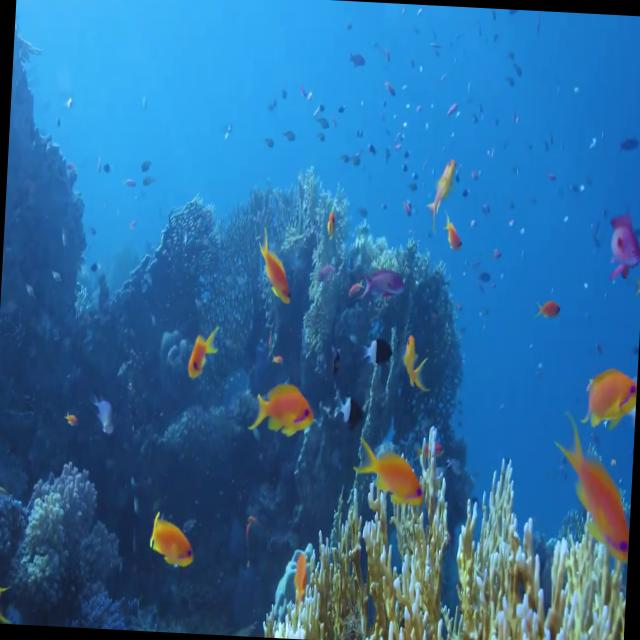fish: (557, 421, 635, 571), (356, 440, 429, 508), (249, 382, 320, 438), (254, 232, 295, 309), (147, 512, 195, 573), (428, 158, 462, 220), (357, 328, 398, 377), (361, 264, 410, 302), (182, 345, 214, 389), (338, 390, 371, 430)
